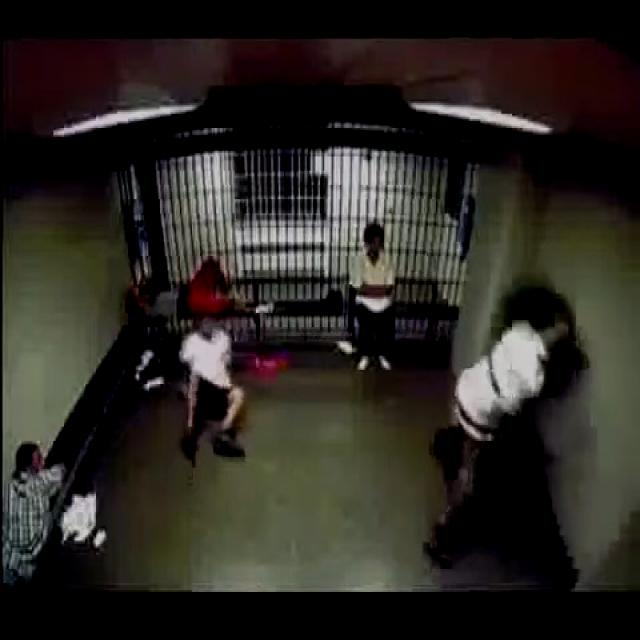fight: (425, 275, 589, 570)
